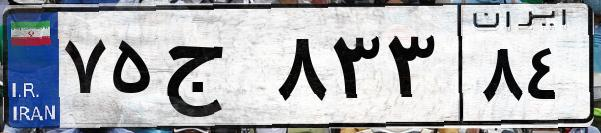3: (385, 28, 445, 110), (330, 28, 385, 110)
4: (525, 38, 570, 115)
5: (110, 28, 158, 98)
7: (57, 26, 110, 100)
8: (270, 28, 330, 110), (475, 38, 525, 113)
ج: (158, 20, 270, 120)
